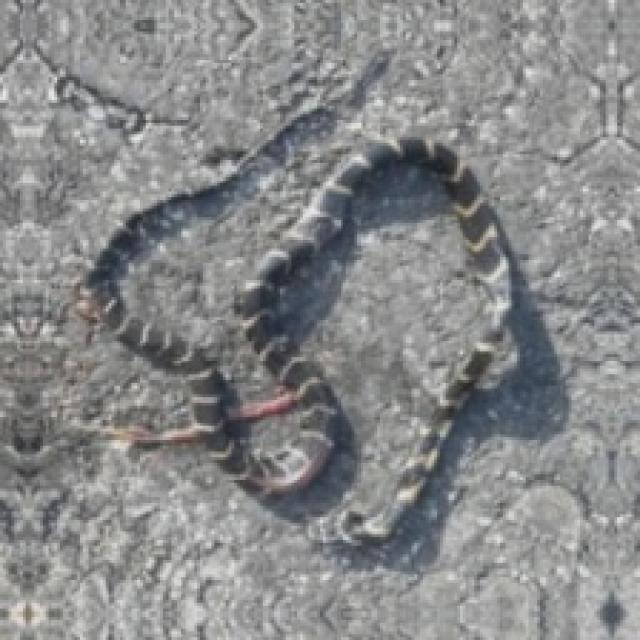king cobra: (77, 51, 391, 469), (234, 137, 520, 383), (243, 380, 354, 514)
